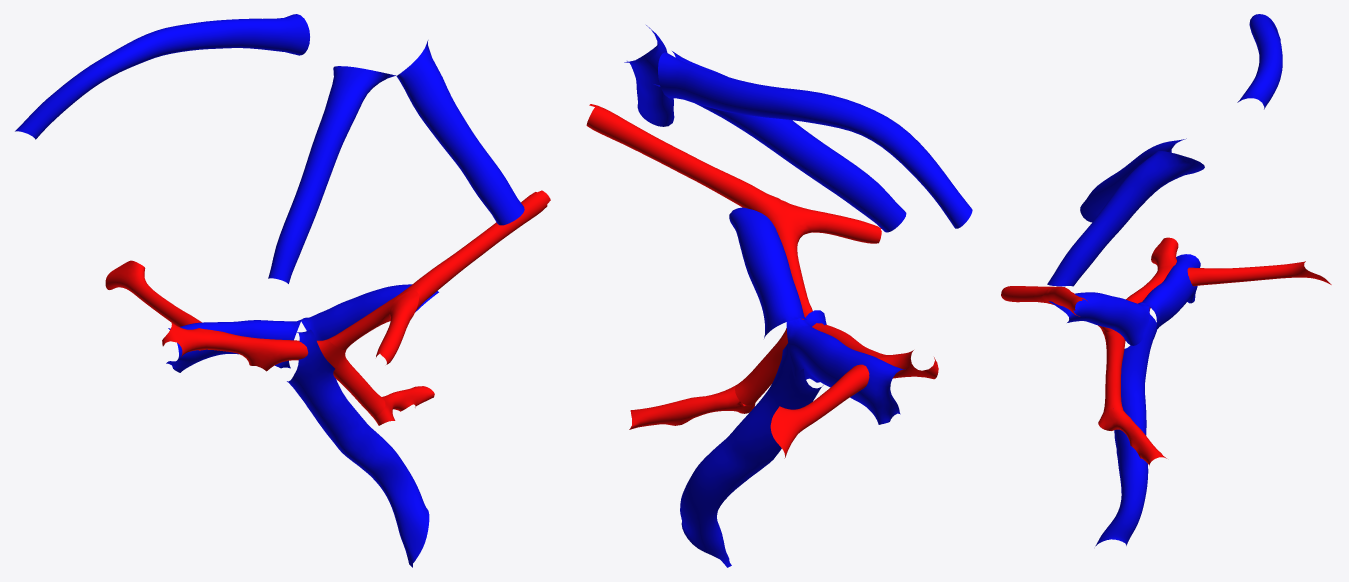
The model's file is VH_F_Blood_Vasculature_Liver.glb.
The picture shows the model from 3 angles, left to right: view 1: azimuth 30°, elevation 25°; view 2: azimuth 150°, elevation 25°; view 3: azimuth 270°, elevation 25°; orthographic projection. The views are drawn at different scales.
Visible parts, largest first — view 1: VH_F_hepatic_portal_vein, VH_F_right_hepatic_vein, VH_F_middle_hepatic_vein, VH_F_left_hepatic_vein, VH_F_left_hepatic_artery, VH_F_right_branch_of_portal_vein, VH_F_right_hepatic_artery, VH_F_left_branch_of_portal_vein, VH_F_posterior_segmental_right_hepatic_artery, VH_F_proper_hepatic_artery, VH_F_middle_hepatic_artery_branch_of_left_hepatic_artery, VH_F_common_hepatic_artery (+1 smaller); view 2: VH_F_right_hepatic_vein, VH_F_hepatic_portal_vein, VH_F_middle_hepatic_vein, VH_F_left_hepatic_artery, VH_F_right_branch_of_portal_vein, VH_F_left_branch_of_portal_vein, VH_F_posterior_segmental_right_hepatic_artery, VH_F_common_hepatic_artery, VH_F_left_hepatic_vein, VH_F_middle_hepatic_artery_branch_of_left_hepatic_artery, VH_F_proper_hepatic_artery, VH_F_anterior_segmental_right_hepatic_artery (+1 smaller); view 3: VH_F_left_hepatic_vein, VH_F_hepatic_portal_vein, VH_F_left_branch_of_portal_vein, VH_F_right_hepatic_vein, VH_F_right_branch_of_portal_vein, VH_F_posterior_segmental_right_hepatic_artery, VH_F_middle_hepatic_vein, VH_F_proper_hepatic_artery, VH_F_common_hepatic_artery, VH_F_middle_hepatic_artery_branch_of_left_hepatic_artery, VH_F_left_hepatic_artery, VH_F_anterior_segmental_right_hepatic_artery (+1 smaller).
Part boxes in pixels (box(x1,y1,x2,y2)): VH_F_hepatic_portal_vein: box(287, 329, 429, 567); VH_F_right_hepatic_vein: box(15, 14, 309, 139); VH_F_middle_hepatic_vein: box(268, 66, 395, 283); VH_F_left_hepatic_vein: box(396, 40, 524, 225); VH_F_left_hepatic_artery: box(328, 190, 550, 349); VH_F_right_branch_of_portal_vein: box(166, 319, 302, 372); VH_F_right_hepatic_artery: box(201, 328, 308, 371); VH_F_left_branch_of_portal_vein: box(301, 284, 438, 340); VH_F_posterior_segmental_right_hepatic_artery: box(105, 260, 201, 326); VH_F_proper_hepatic_artery: box(317, 339, 385, 416); VH_F_middle_hepatic_artery_branch_of_left_hepatic_artery: box(376, 290, 418, 364); VH_F_common_hepatic_artery: box(372, 386, 434, 425); VH_F_right_hepatic_vein: box(658, 52, 972, 228); VH_F_hepatic_portal_vein: box(680, 310, 826, 567); VH_F_middle_hepatic_vein: box(653, 51, 906, 232); VH_F_left_hepatic_artery: box(586, 104, 811, 313); VH_F_right_branch_of_portal_vein: box(786, 318, 905, 424); VH_F_left_branch_of_portal_vein: box(729, 207, 806, 338); VH_F_posterior_segmental_right_hepatic_artery: box(770, 364, 869, 458); VH_F_common_hepatic_artery: box(629, 385, 755, 429); VH_F_left_hepatic_vein: box(624, 25, 674, 126); VH_F_middle_hepatic_artery_branch_of_left_hepatic_artery: box(777, 198, 881, 243); VH_F_proper_hepatic_artery: box(735, 309, 812, 405); VH_F_anterior_segmental_right_hepatic_artery: box(878, 350, 938, 379); VH_F_left_hepatic_vein: box(1047, 151, 1204, 286); VH_F_hepatic_portal_vein: box(1095, 314, 1156, 546); VH_F_left_branch_of_portal_vein: box(1048, 292, 1149, 345); VH_F_right_hepatic_vein: box(1237, 14, 1282, 109); VH_F_right_branch_of_portal_vein: box(1142, 254, 1200, 329); VH_F_posterior_segmental_right_hepatic_artery: box(1187, 261, 1331, 286); VH_F_middle_hepatic_vein: box(1080, 138, 1186, 222); VH_F_proper_hepatic_artery: box(1101, 329, 1125, 411); VH_F_common_hepatic_artery: box(1098, 408, 1166, 465); VH_F_middle_hepatic_artery_branch_of_left_hepatic_artery: box(1001, 286, 1054, 302); VH_F_left_hepatic_artery: box(1040, 286, 1112, 331); VH_F_anterior_segmental_right_hepatic_artery: box(1151, 237, 1178, 269).
Bounding box in the file's own units: 0.115 × 0.1297 × 0.0845.
